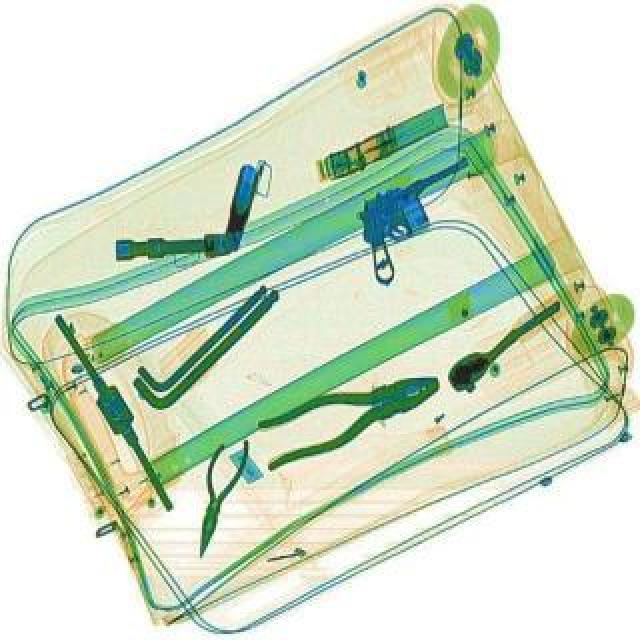gun: (338, 152, 506, 286)
wrench: (248, 354, 448, 470), (186, 430, 250, 562)
